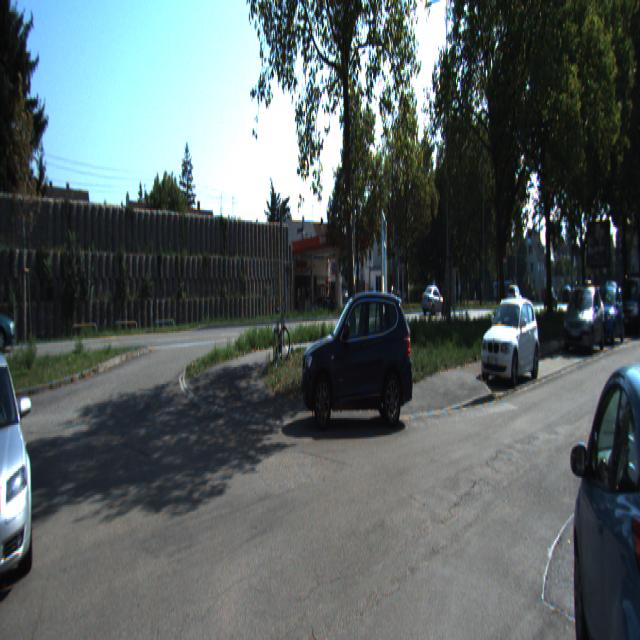Car: (572, 320, 639, 638), (297, 276, 417, 430), (0, 329, 40, 595), (477, 298, 541, 391), (560, 283, 606, 354), (0, 283, 18, 351), (420, 285, 446, 319)
DontCare: (543, 274, 560, 311), (508, 277, 525, 308)
